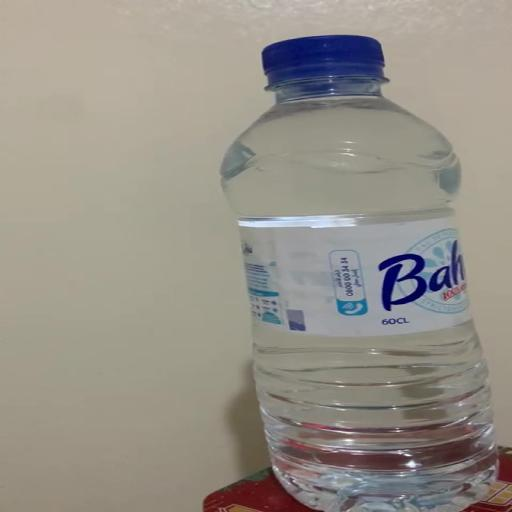bouteille conformite: (227, 36, 508, 512)
